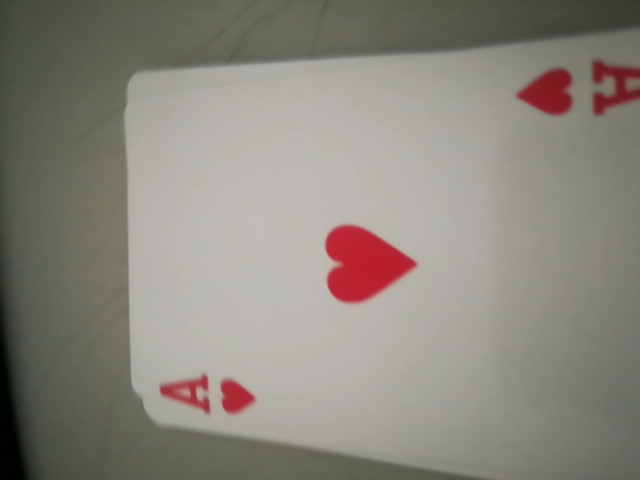hx a: (510, 41, 640, 133), (150, 359, 277, 428)
